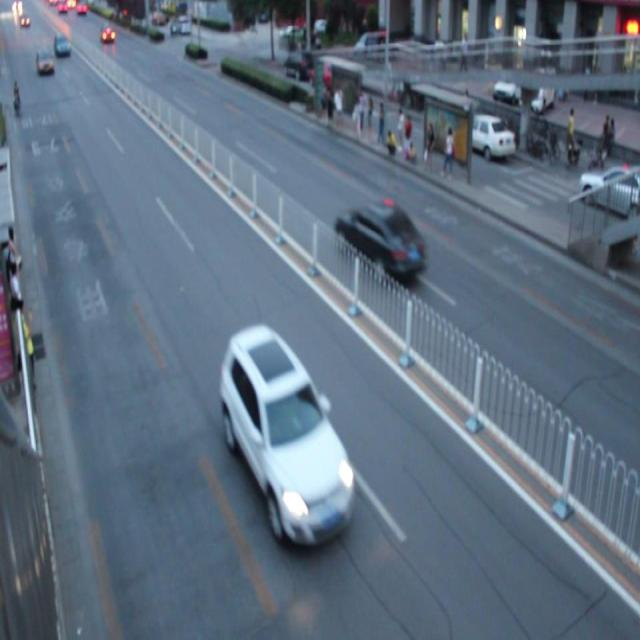car: (220, 327, 355, 542), (334, 196, 428, 278)
